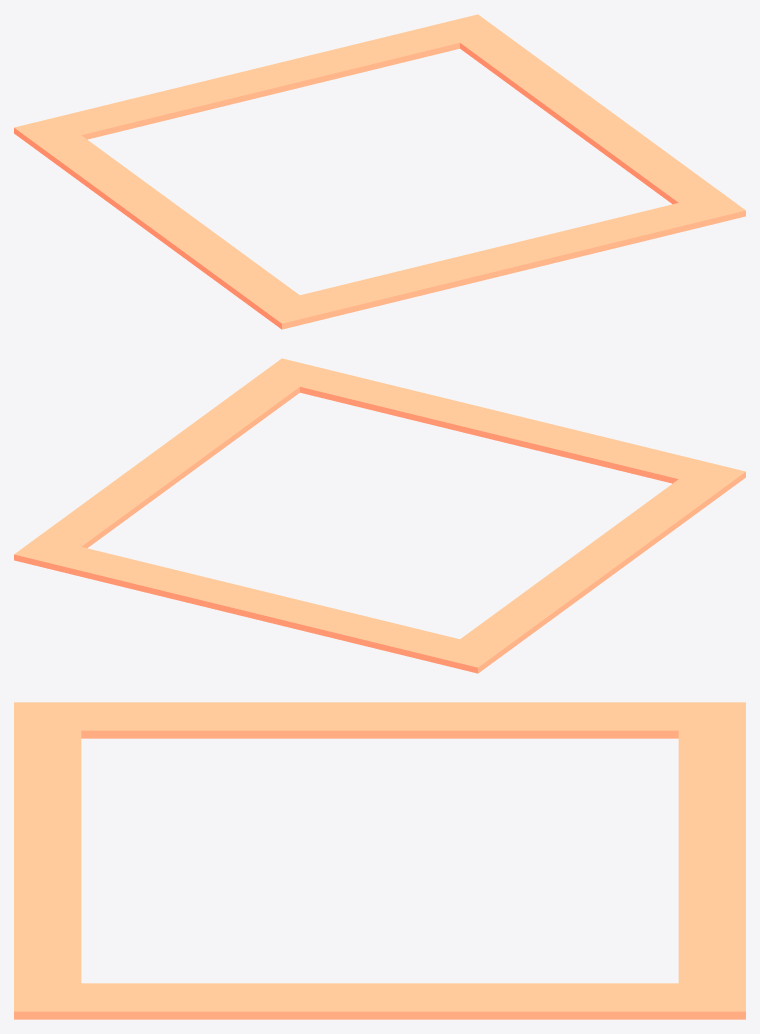
The model's file is MarkerCapture.glb.
3 renders of one model, top to bottom at view 1: azimuth 30°, elevation 25°; view 2: azimuth 150°, elevation 25°; view 3: azimuth 270°, elevation 25°, orthographic. The views are drawn at different scales.
Visible parts, largest first — view 1: MarkerCapture; view 2: MarkerCapture; view 3: MarkerCapture.
Part boxes in pixels (x1,y1,x2,y2): MarkerCapture: (14, 14, 745, 329); MarkerCapture: (14, 358, 745, 673); MarkerCapture: (14, 702, 745, 1019).
Size of the model in its own units: 0.98 by 0.012 by 0.98.
